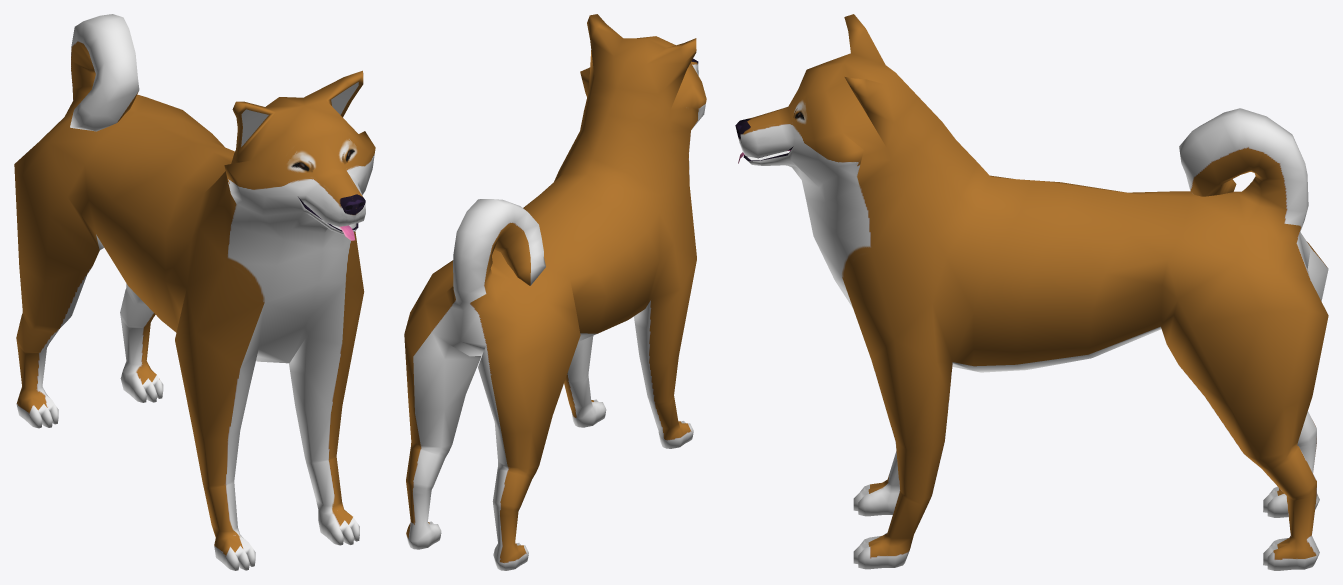
Rendered from shibainu.dae.
3 views of the same model, side by side, from view 1: azimuth 30°, elevation 25°; view 2: azimuth 150°, elevation 25°; view 3: azimuth 270°, elevation 25° (orthographic). The views are drawn at different scales.
Parts seen in each view (by area): view 1: shibainu; view 2: shibainu; view 3: shibainu.
Boxes of the visible parts, x1,y1,x2,y2 form: shibainu: (14, 14, 375, 570); shibainu: (404, 14, 706, 570); shibainu: (735, 14, 1328, 570).
Bounding box in the file's own units: 0.0338 × 0.0955 × 0.0874.
1 material, 1 textured.
